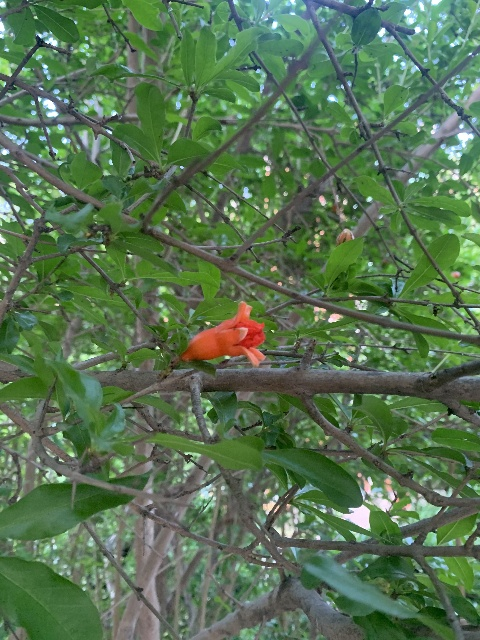bud: (335, 228, 354, 247)
flower: (182, 301, 266, 368)
